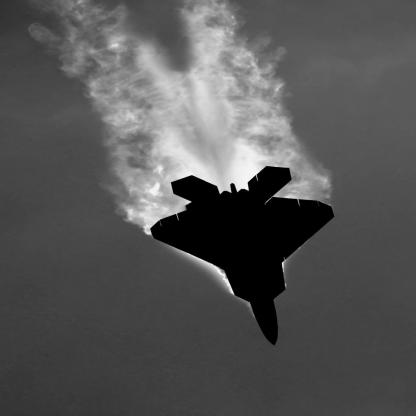F22: (151, 167, 336, 348)
